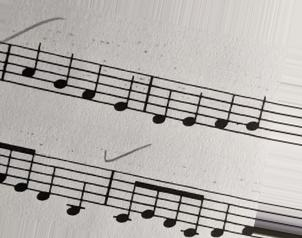A: (19, 40, 43, 93)
D: (206, 191, 234, 237), (151, 74, 173, 127), (36, 151, 57, 204)
E: (112, 65, 136, 117), (181, 79, 204, 132)
F: (79, 59, 103, 107), (214, 87, 235, 138)
G: (51, 52, 76, 101), (243, 94, 267, 143)
